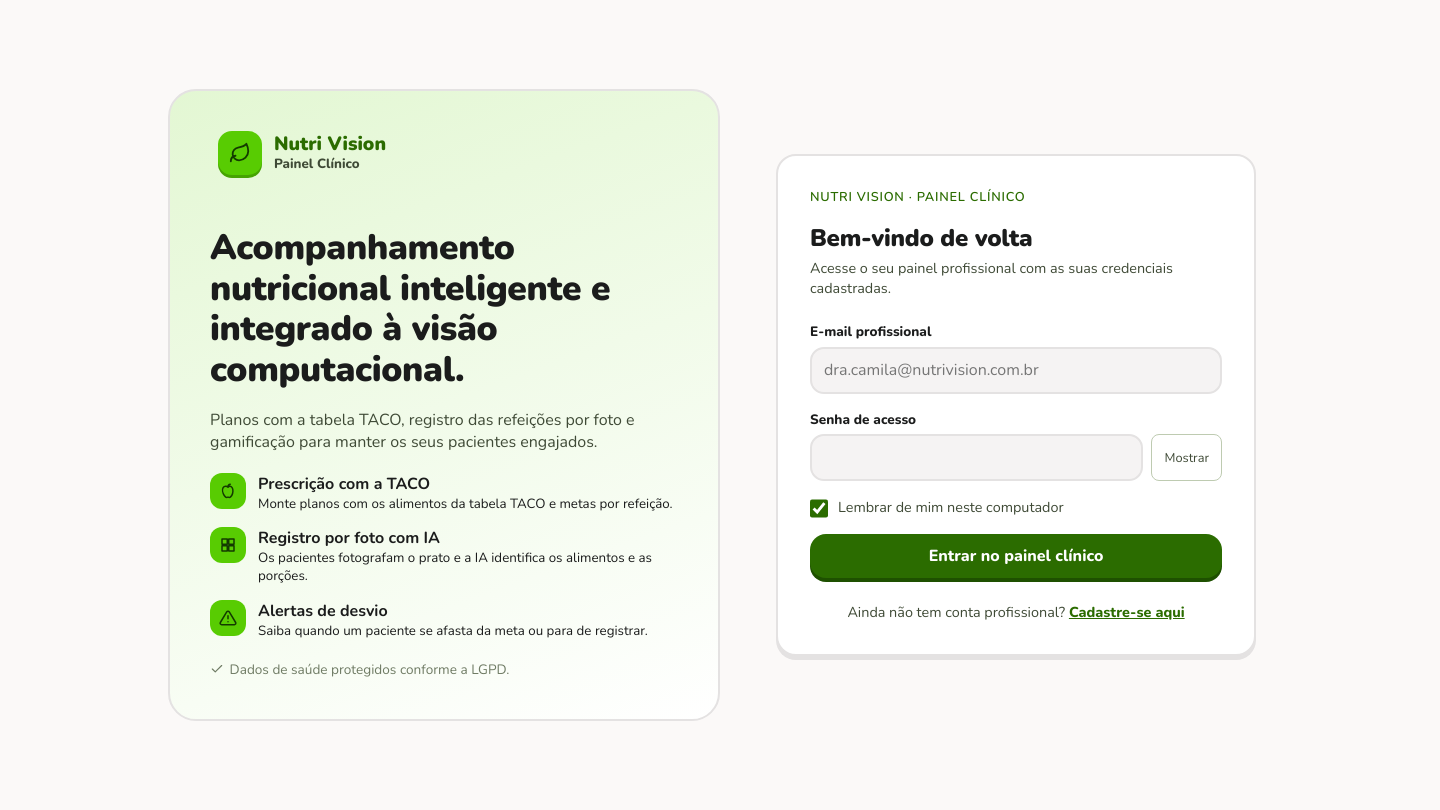
Test: LoginPage - lembrar de mim › sem lembrar, o token fica so na sessao do navegador
Type "ana@exemplo.com" into the field labelled "E-mail profissional".
click(1016, 370); type("ana@exemplo.com")  # box x1=810 y1=347 x2=1222 y2=394
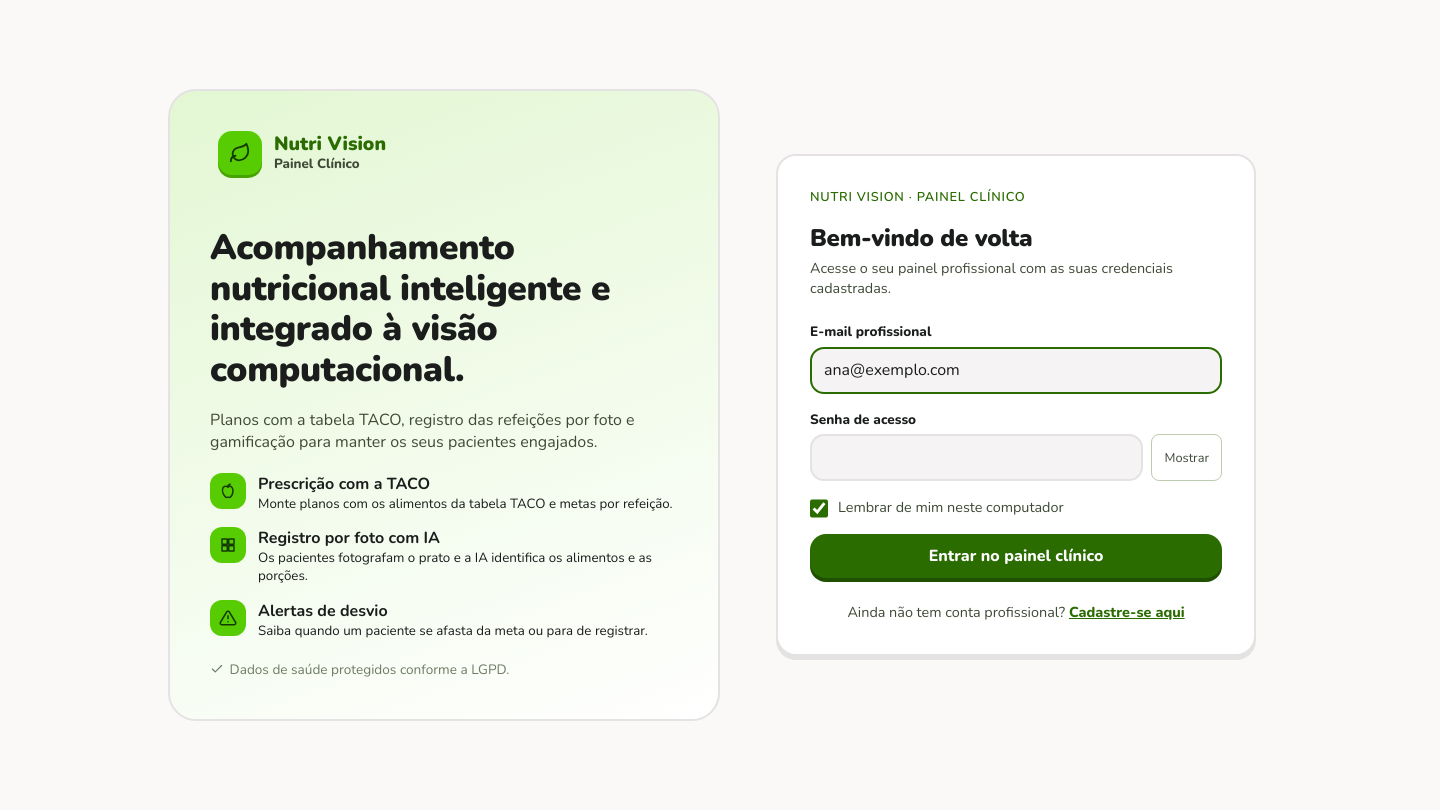
Type "senha-forte-123" into the password field labelled "Senha de acesso".
click(977, 458); type("senha-forte-123")  # box x1=810 y1=434 x2=1144 y2=481
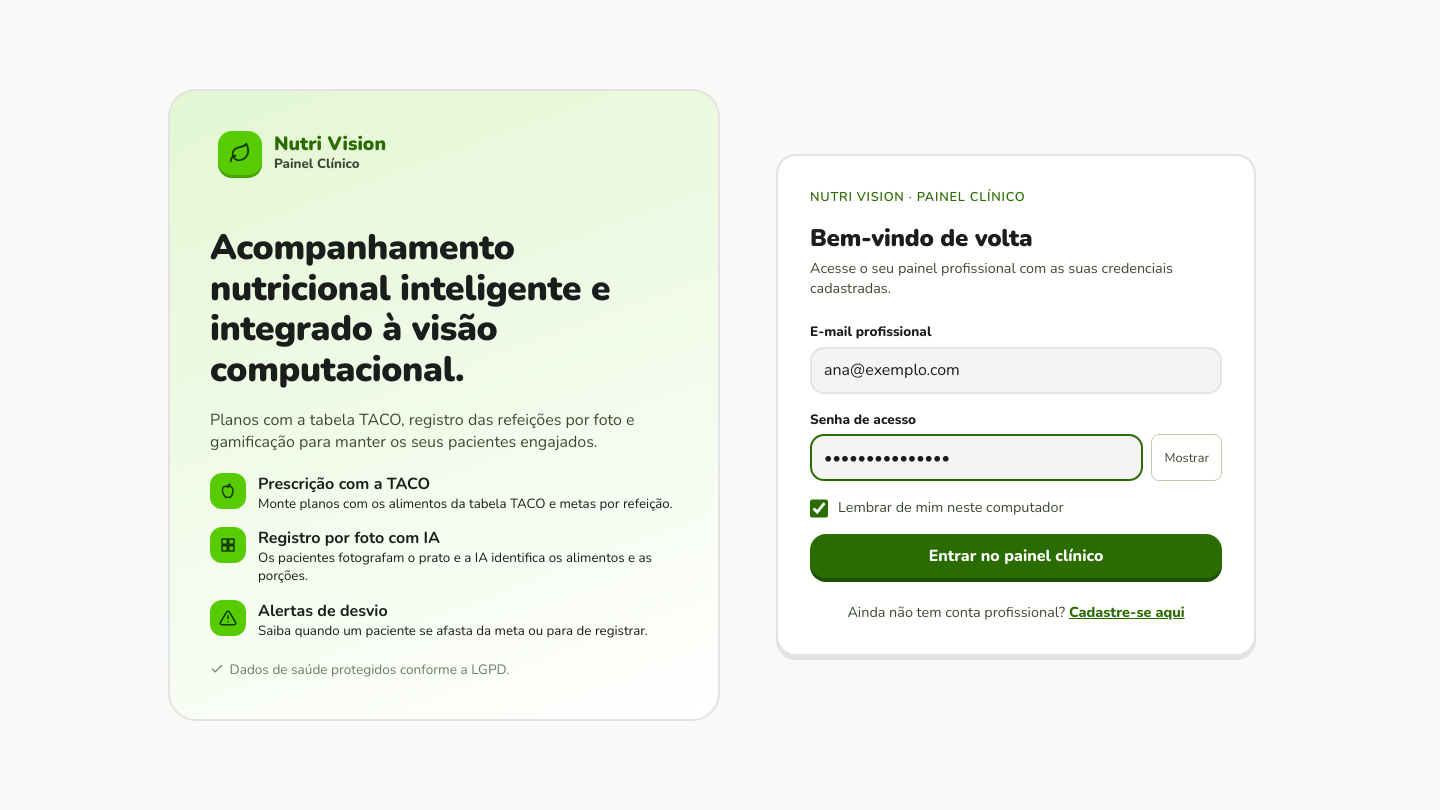
Click the checkbox labelled "Lembrar de mim neste computador".
click(819, 509)  # box x1=810 y1=499 x2=828 y2=518
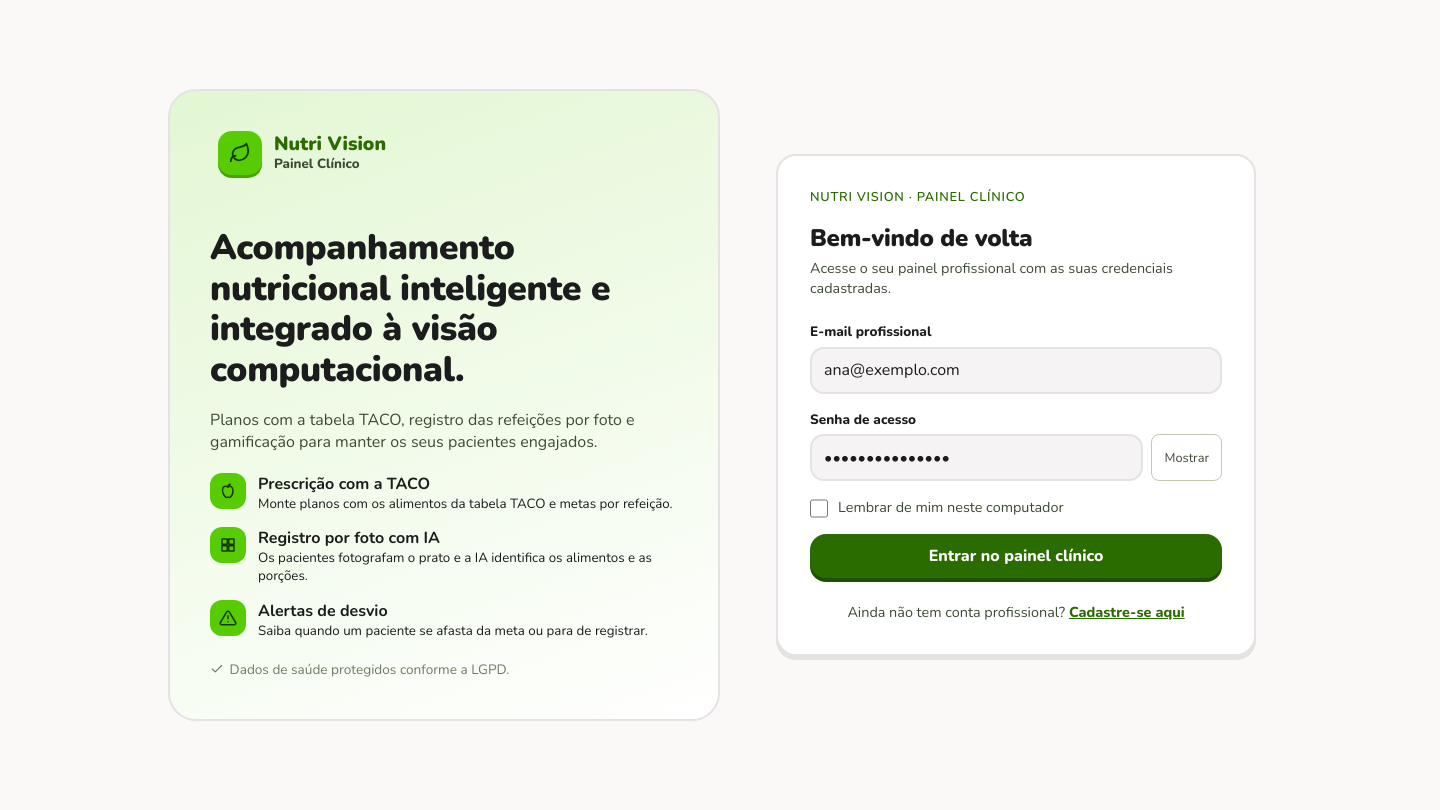
Click the button "Entrar no painel clínico".
click(1016, 556)  # box x1=810 y1=534 x2=1222 y2=578
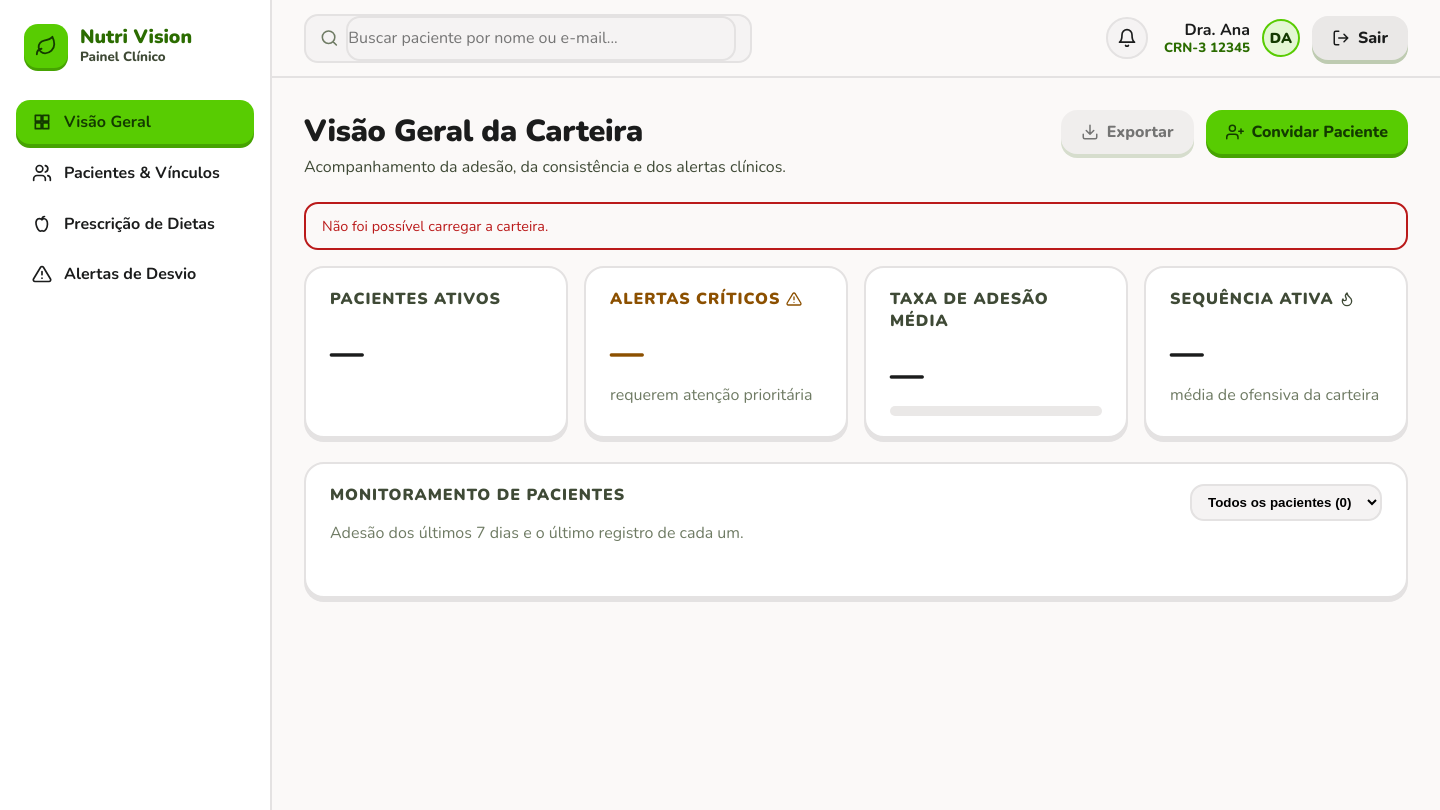
Result: the navigation bar named "Menu do painel" is shown at x1=16 y1=100 x2=254 y2=297
